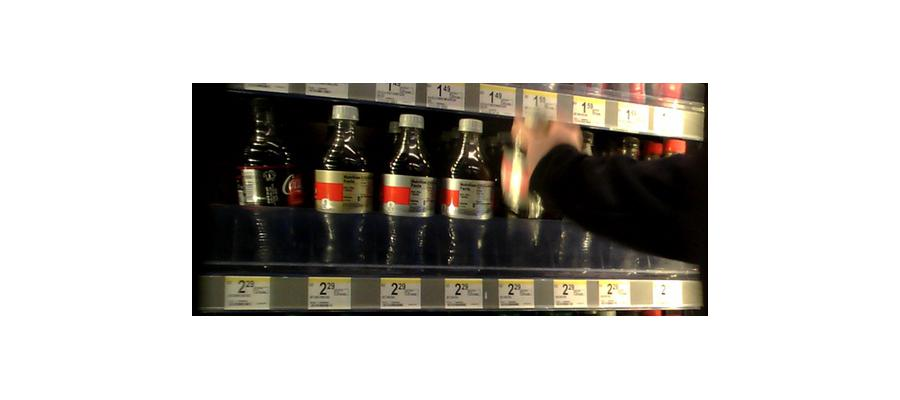bottle: (238, 104, 303, 271), (313, 99, 373, 271), (498, 113, 556, 267), (383, 108, 435, 274), (443, 117, 494, 275)
